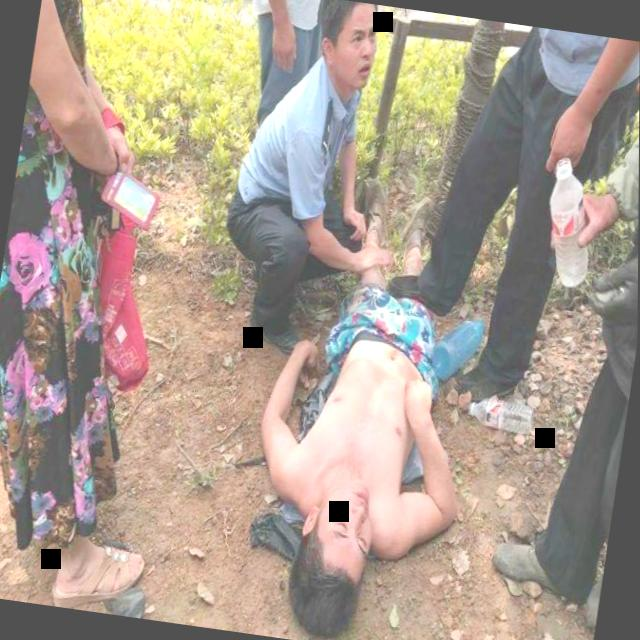Fall-Detected: (219, 215, 508, 640)
